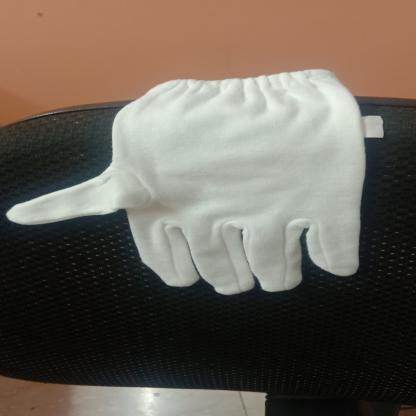gloved_hand: (0, 68, 373, 304)
